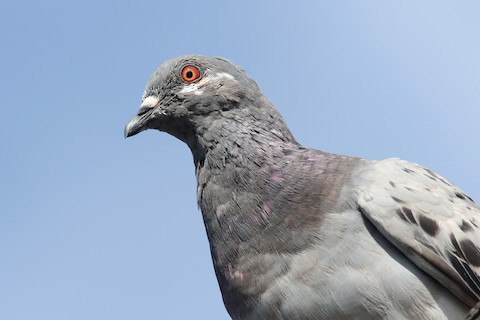pigeon: (123, 51, 469, 316)
